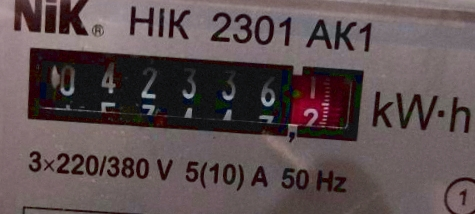0: (56, 61, 78, 97)
1: (304, 71, 319, 101)
2: (137, 63, 159, 101), (299, 105, 320, 127)
3: (178, 62, 200, 102), (216, 65, 238, 103)
4: (97, 57, 119, 95)
6: (254, 71, 279, 108)
screen: (15, 33, 373, 153)
